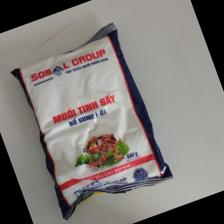Salt: (9, 21, 174, 224)
